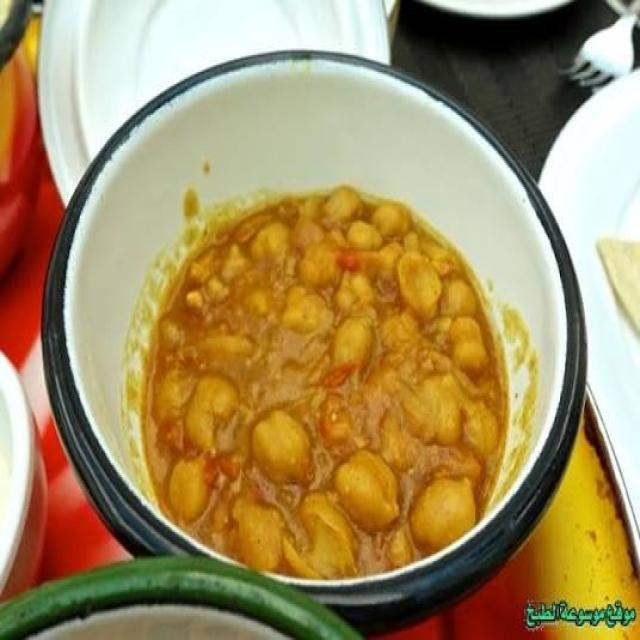Nakhi: (145, 174, 514, 577)
